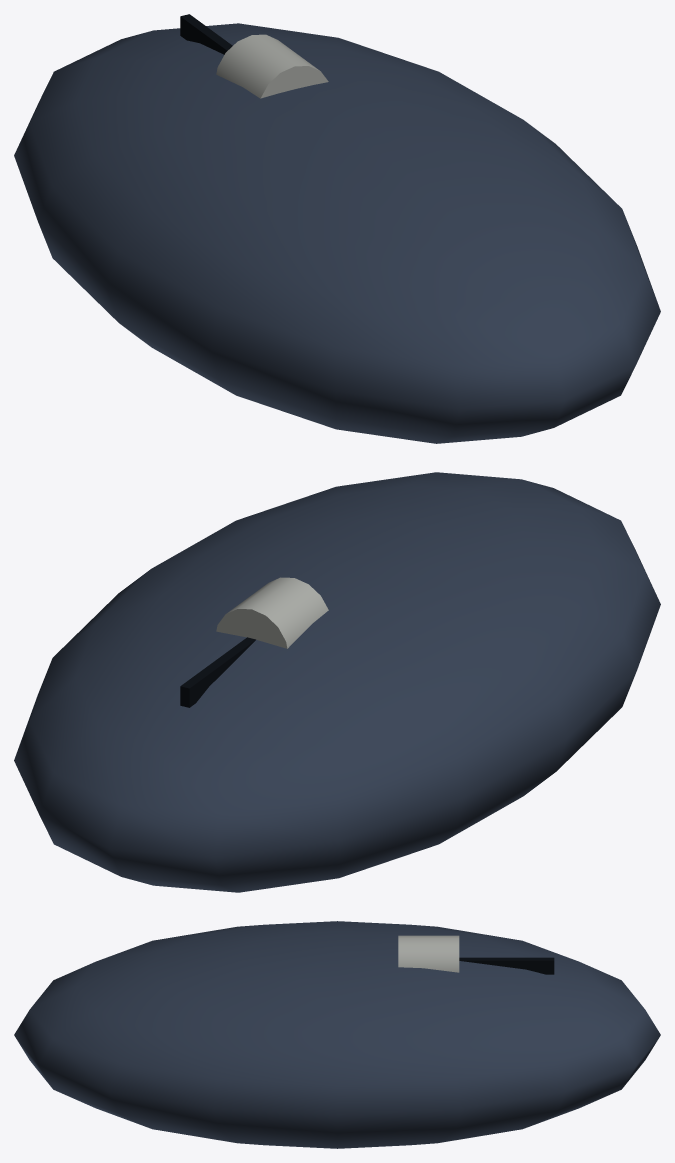
Rendered from room-computer-mouse.glb.
The picture shows the model from 3 angles, top to bottom: view 1: azimuth 30°, elevation 25°; view 2: azimuth 150°, elevation 25°; view 3: azimuth 270°, elevation 25°; orthographic projection. The views are drawn at different scales.
Visible parts, largest first — view 1: frame, trim, void; view 2: frame, trim, void; view 3: frame, trim, void.
Part boxes in pixels (x1=…): frame: x1=14, y1=23, x2=660, y2=443; trim: x1=216, y1=34, x2=328, y2=98; void: x1=180, y1=14, x2=232, y2=54; frame: x1=14, y1=472, x2=660, y2=892; trim: x1=216, y1=577, x2=328, y2=648; void: x1=180, y1=637, x2=255, y2=707; frame: x1=14, y1=921, x2=660, y2=1148; trim: x1=398, y1=935, x2=459, y2=972; void: x1=459, y1=957, x2=554, y2=974.
Bounding box in the file's own units: 0.0496 × 0.026 × 0.085.
